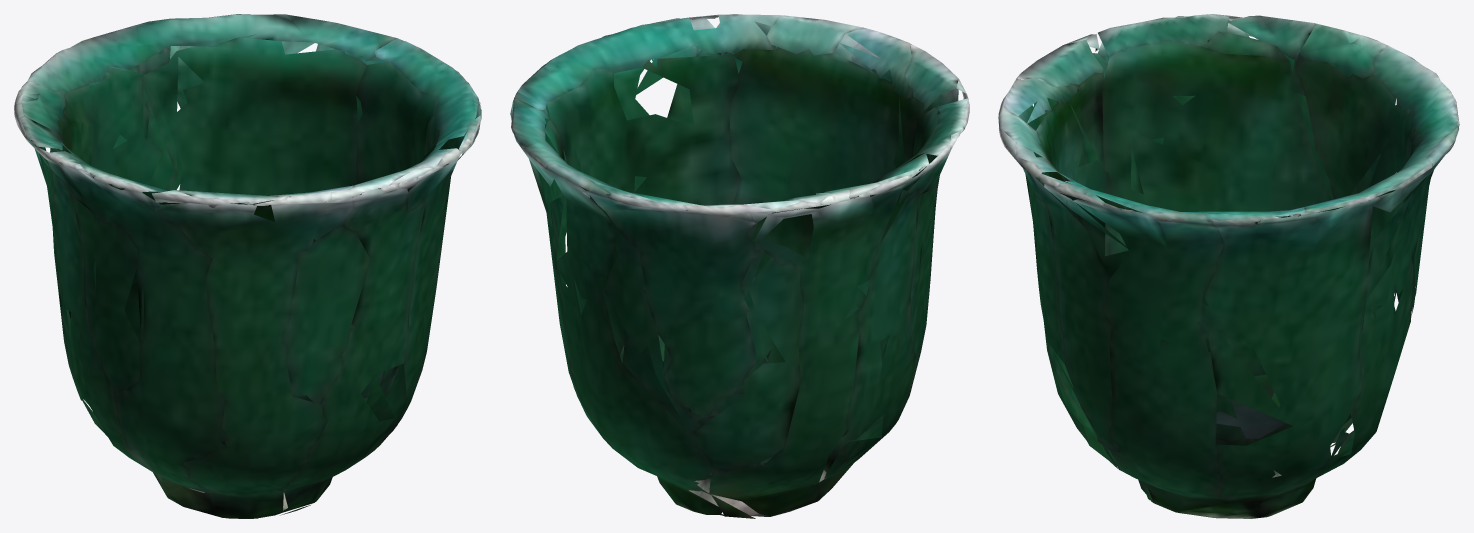
Rendered from hm-crackleware-jar.lod1.glb.
The picture shows the model from 3 angles, left to right: view 1: azimuth 30°, elevation 25°; view 2: azimuth 150°, elevation 25°; view 3: azimuth 270°, elevation 25°; orthographic projection.
Visible parts, largest first — view 1: Object_2, Object_3; view 2: Object_2, Object_3; view 3: Object_2, Object_3.
Part boxes in pixels (x1,y1,x2,y2): Object_2: (14, 34, 481, 518); Object_3: (14, 14, 481, 518); Object_2: (510, 14, 969, 516); Object_3: (511, 14, 968, 518); Object_2: (998, 14, 1453, 518); Object_3: (1016, 15, 1459, 499).
Size of the model in its own units: 0.1165 by 0.1058 by 0.1159.
Materials: 1 (1 with a texture image).
